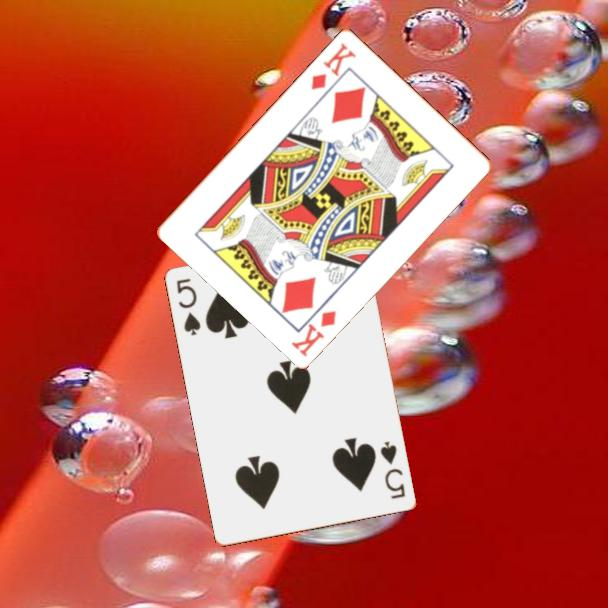d13: (307, 39, 359, 92), (288, 306, 339, 359)
s05: (377, 438, 408, 502), (173, 275, 204, 338)
